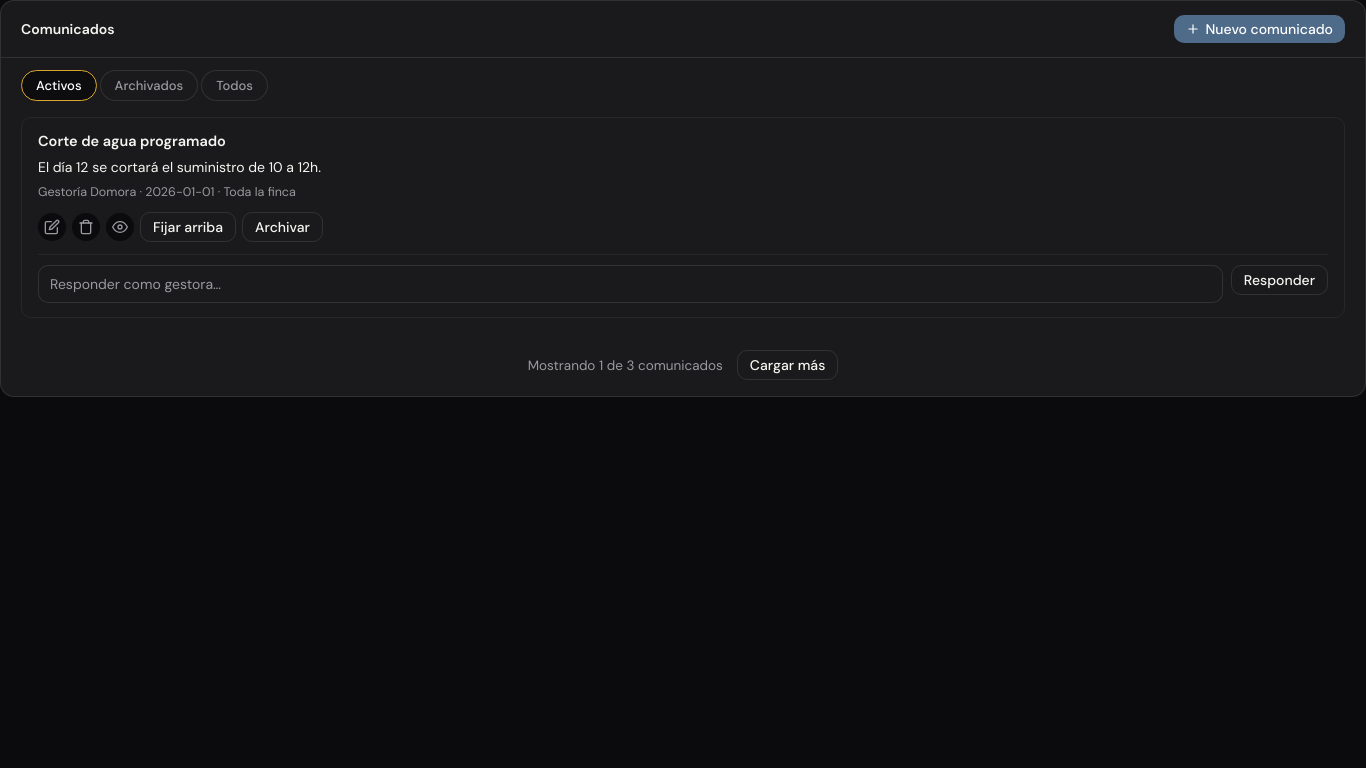
ComunicadosTabComponent › paginación "Cargar más" › aparece con el conteo real cuando quedan comunicados sin mostrar, y al pulsarlo concatena la página siguiente
Click the button "Cargar más" at (788, 365), box [737,350,838,380]
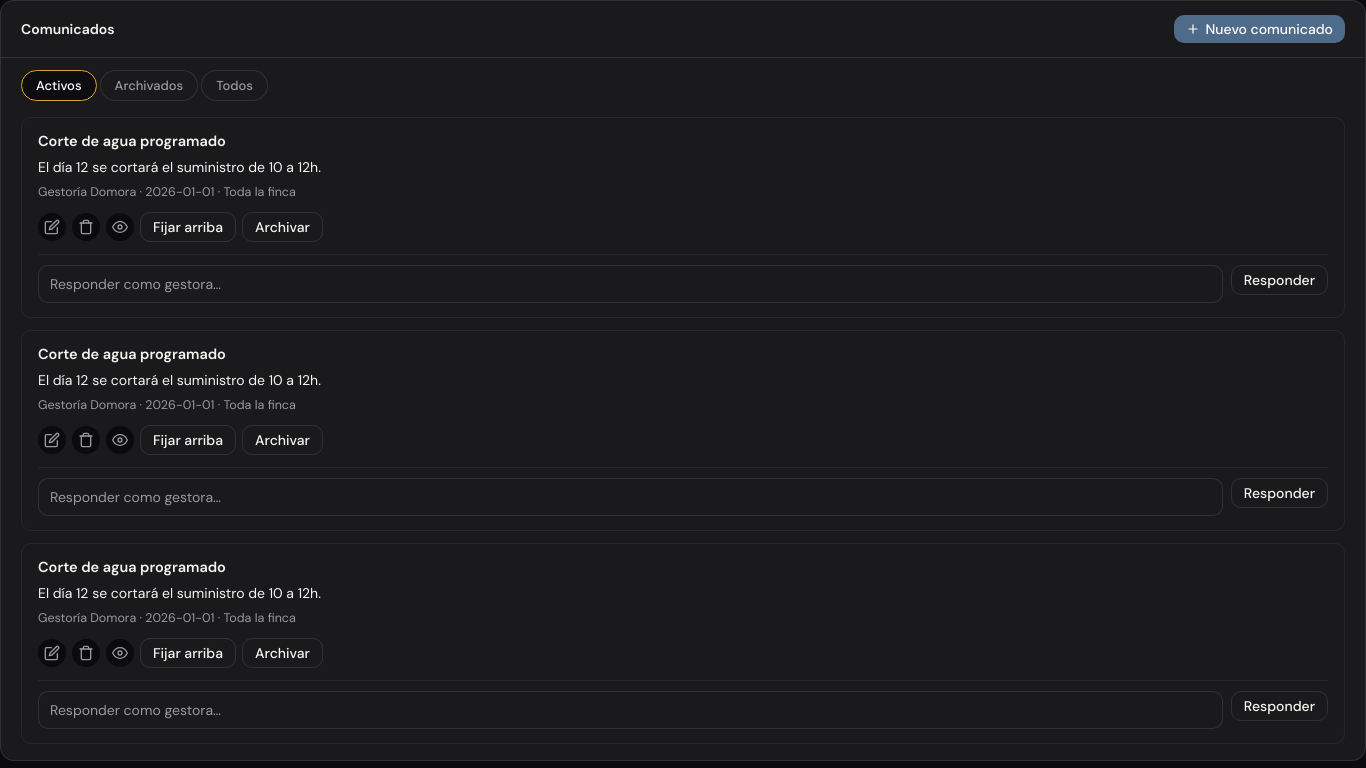
Expected: the number of elements with class "comm-card" is 3, [21,117,1345,318]; [21,330,1345,531]; [21,543,1345,744]
Expected: the text "Cargar más" is gone
